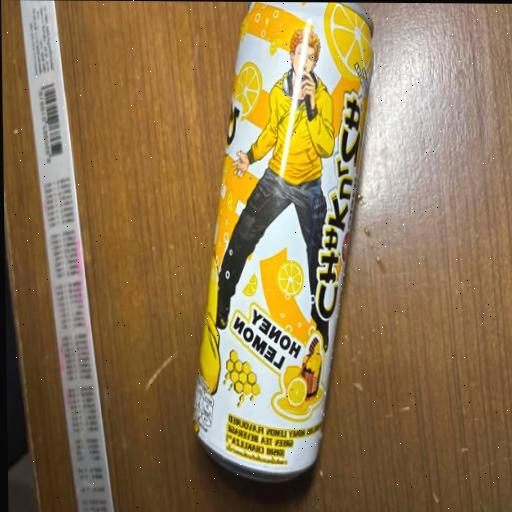canned: (169, 2, 409, 497)
